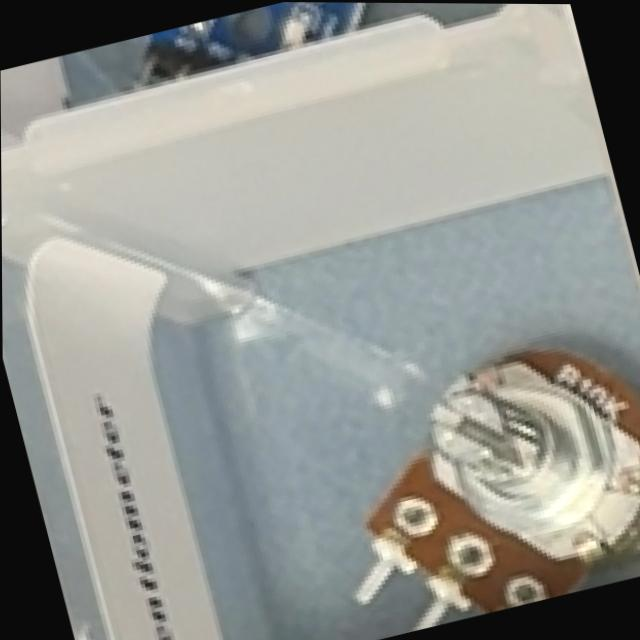Potentiometer: (298, 315, 640, 640)
